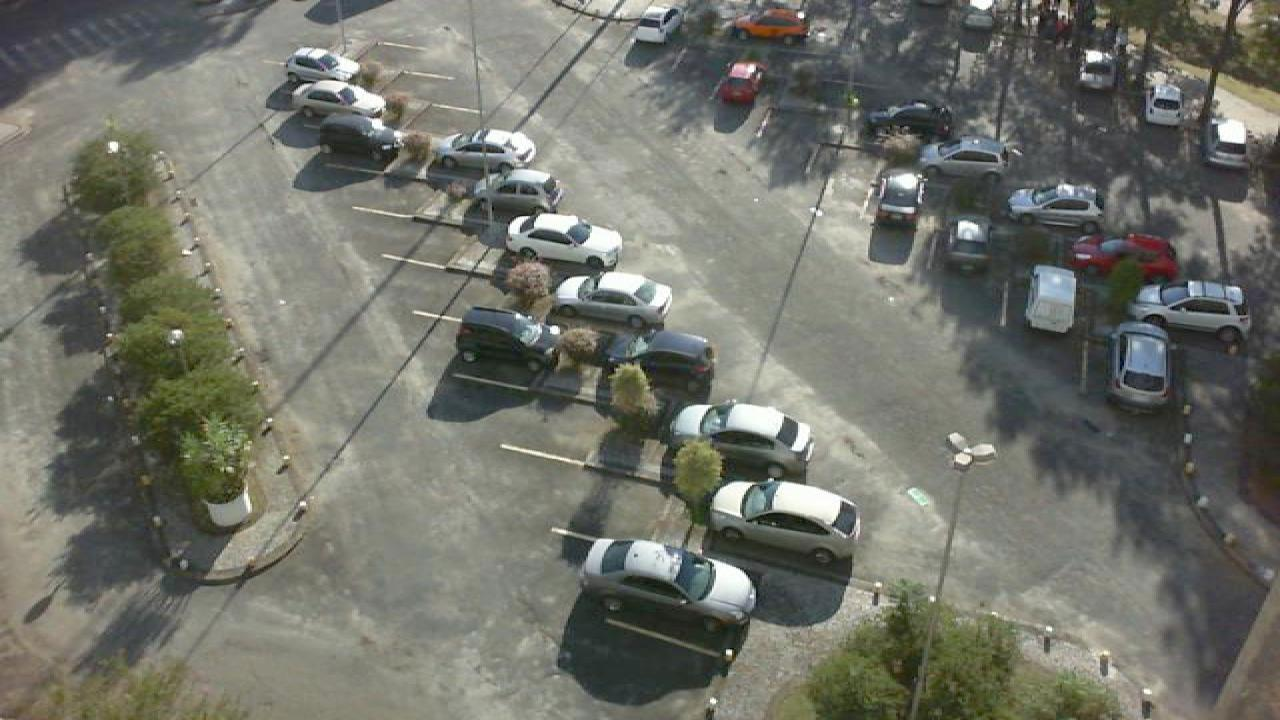Car: (578, 537, 758, 632), (702, 477, 864, 565), (666, 399, 818, 470), (1124, 279, 1252, 341), (500, 212, 626, 273), (554, 269, 676, 332), (452, 305, 564, 372), (622, 328, 720, 400), (1106, 322, 1174, 414), (1072, 233, 1184, 283), (460, 169, 562, 219), (436, 127, 540, 173), (1004, 180, 1102, 227), (1022, 262, 1082, 333), (920, 135, 1010, 181), (290, 80, 388, 120), (860, 98, 960, 137), (316, 114, 404, 158), (866, 171, 928, 229), (938, 216, 996, 278), (282, 45, 364, 83), (730, 6, 814, 42), (1204, 117, 1254, 168), (626, 4, 686, 44), (718, 61, 766, 108), (1144, 82, 1188, 126), (1078, 48, 1120, 92), (960, 0, 998, 25)
